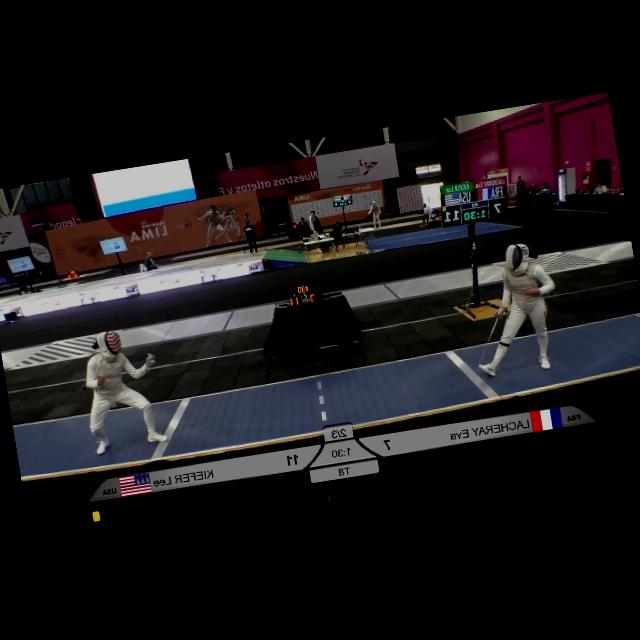blade: (462, 312, 512, 385), (140, 310, 191, 364)
